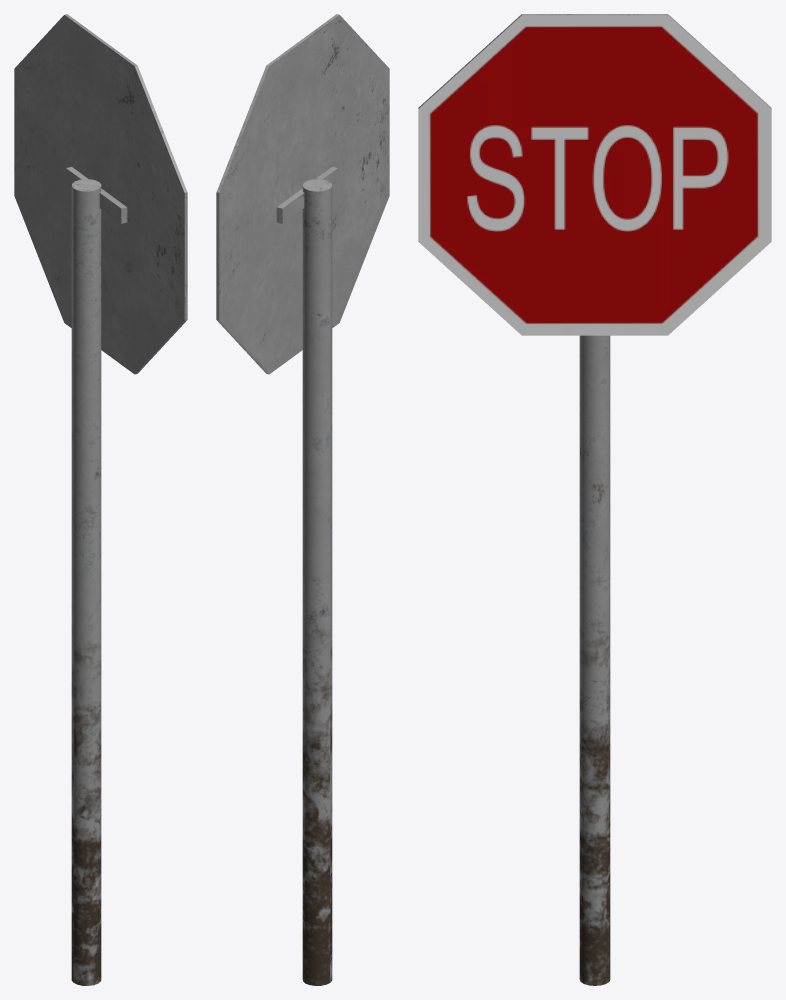
File: StopSign.fbx
3 views of the same model, side by side, from view 1: azimuth 30°, elevation 25°; view 2: azimuth 150°, elevation 25°; view 3: azimuth 270°, elevation 25° (orthographic). The views are drawn at different scales.
Parts seen in each view (by area): view 1: signs.002; view 2: signs.002; view 3: signs.002.
Part boxes in pixels (x1,y1,x2,y2): signs.002: (14, 14, 187, 985); signs.002: (216, 14, 389, 985); signs.002: (418, 14, 771, 985).
Size of the model in its own units: 7.58 by 236 by 77.62.
1 material, 1 textured.
